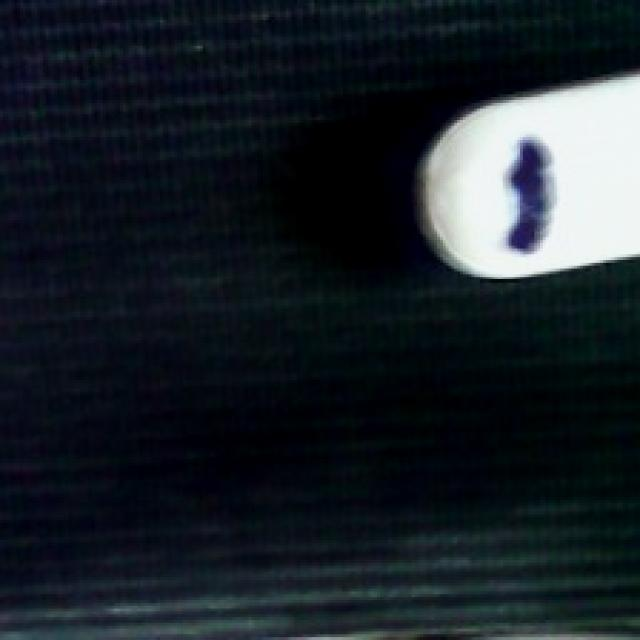defected: (403, 66, 637, 286)
